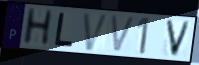1: (136, 16, 150, 56)
H: (21, 7, 55, 47)
L: (53, 11, 75, 49)
V: (81, 11, 111, 52), (109, 14, 138, 54), (165, 18, 193, 59)
